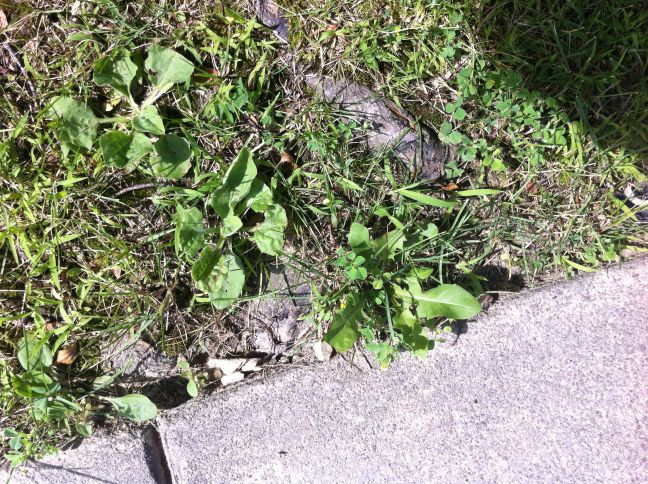weed1: (37, 38, 200, 177), (172, 147, 291, 313)
